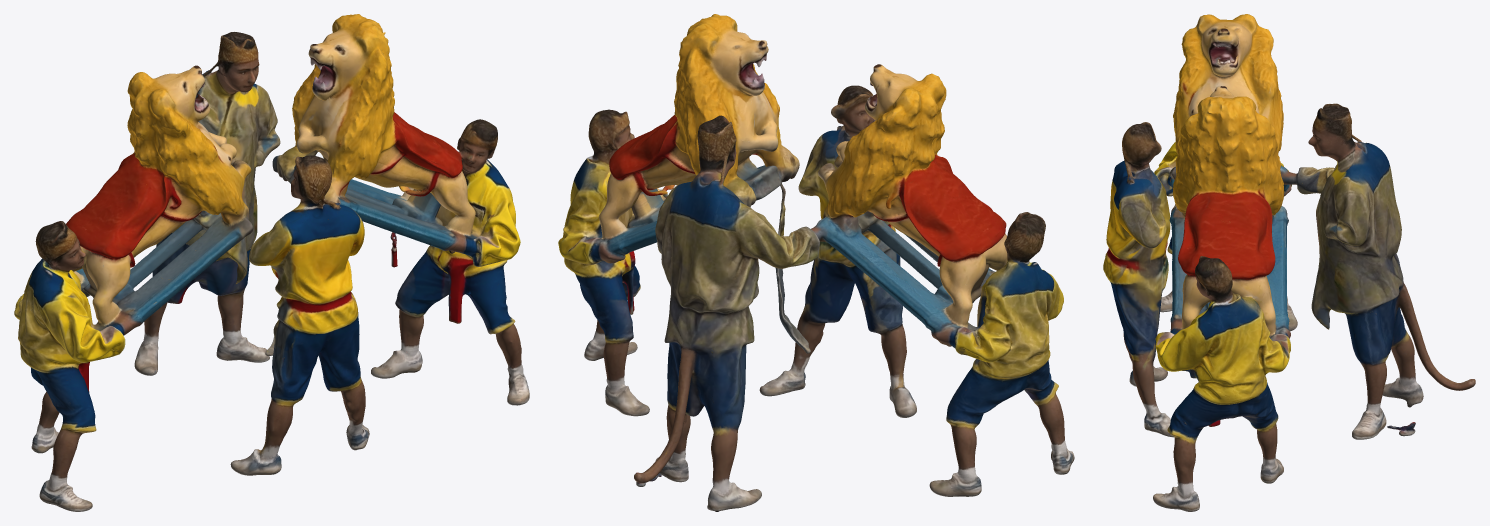
The model's file is compressed-atraksi1.glb.
The picture shows the model from 3 angles, left to right: view 1: azimuth 30°, elevation 25°; view 2: azimuth 150°, elevation 25°; view 3: azimuth 270°, elevation 25°; orthographic projection. The views are drawn at different scales.
Parts seen in each view (by area): view 1: mesh_node; view 2: mesh_node; view 3: mesh_node.
Part boxes in pixels (x1,y1,x2,y2): mesh_node: (14, 14, 529, 511); mesh_node: (558, 14, 1074, 511); mesh_node: (1103, 14, 1475, 511).
Bounding box in the file's own units: 1.9 × 1.47 × 1.4.
Materials: 1 (1 with a texture image).
